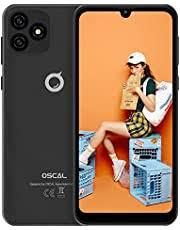Smartphone: (72, 4, 173, 224), (7, 7, 82, 225)
